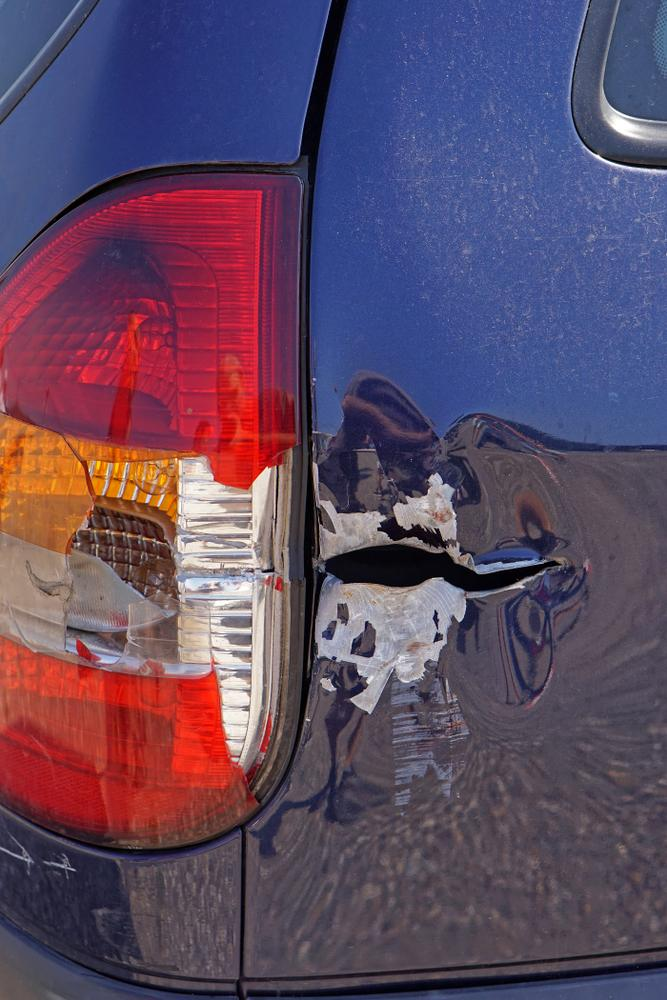crack: (321, 542, 562, 593)
dent: (326, 375, 586, 717)
lamp broken: (0, 169, 307, 856)
scratch: (384, 660, 476, 823)
